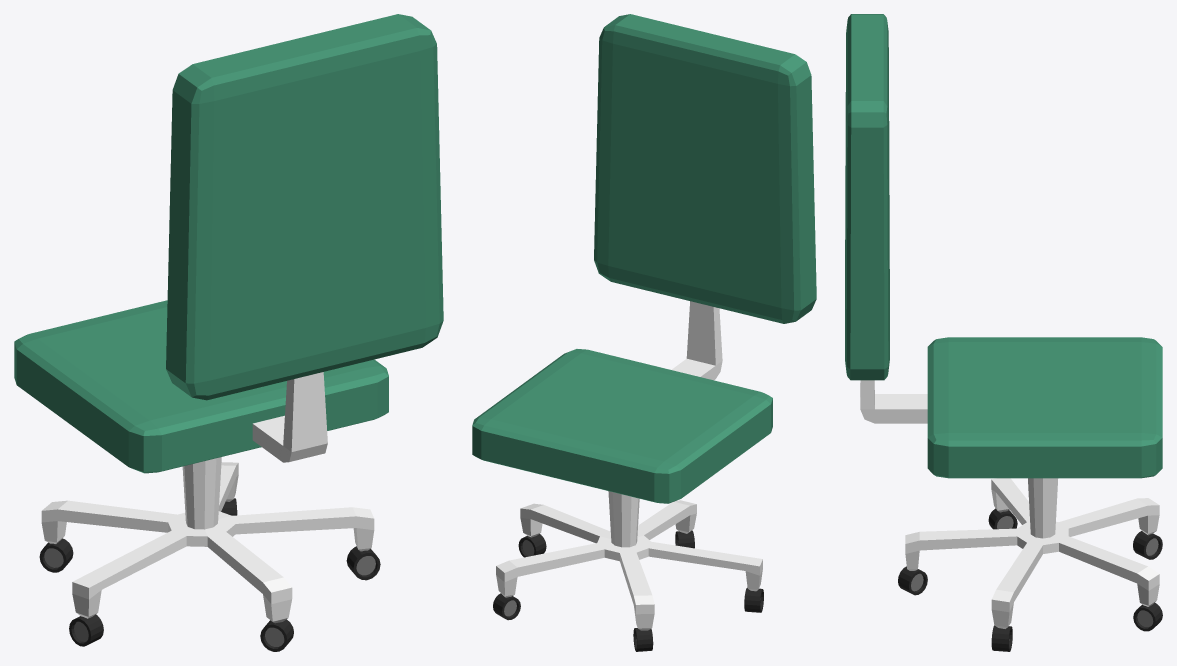
The model's file is Chair_22.fbx.
3 renders of one model, left to right at view 1: azimuth 30°, elevation 25°; view 2: azimuth 150°, elevation 25°; view 3: azimuth 270°, elevation 25°, orthographic. The views are drawn at different scales.
Parts seen in each view (by area): view 1: Chair_22; view 2: Chair_22; view 3: Chair_22.
Boxes of the visible parts, <box> form: Chair_22: <box>14,14,443,651</box>; Chair_22: <box>472,14,816,651</box>; Chair_22: <box>845,14,1162,651</box>.
Size of the model in its own units: 0.4258 by 0.8344 by 0.4495.
